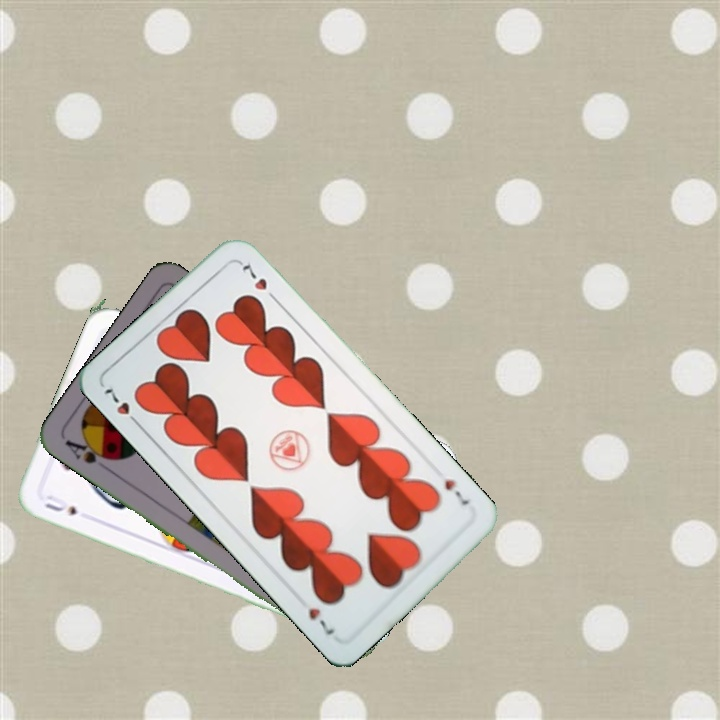H7: (99, 382, 144, 430), (440, 470, 472, 509)
SA: (60, 433, 118, 474)
SU: (41, 490, 80, 519)
